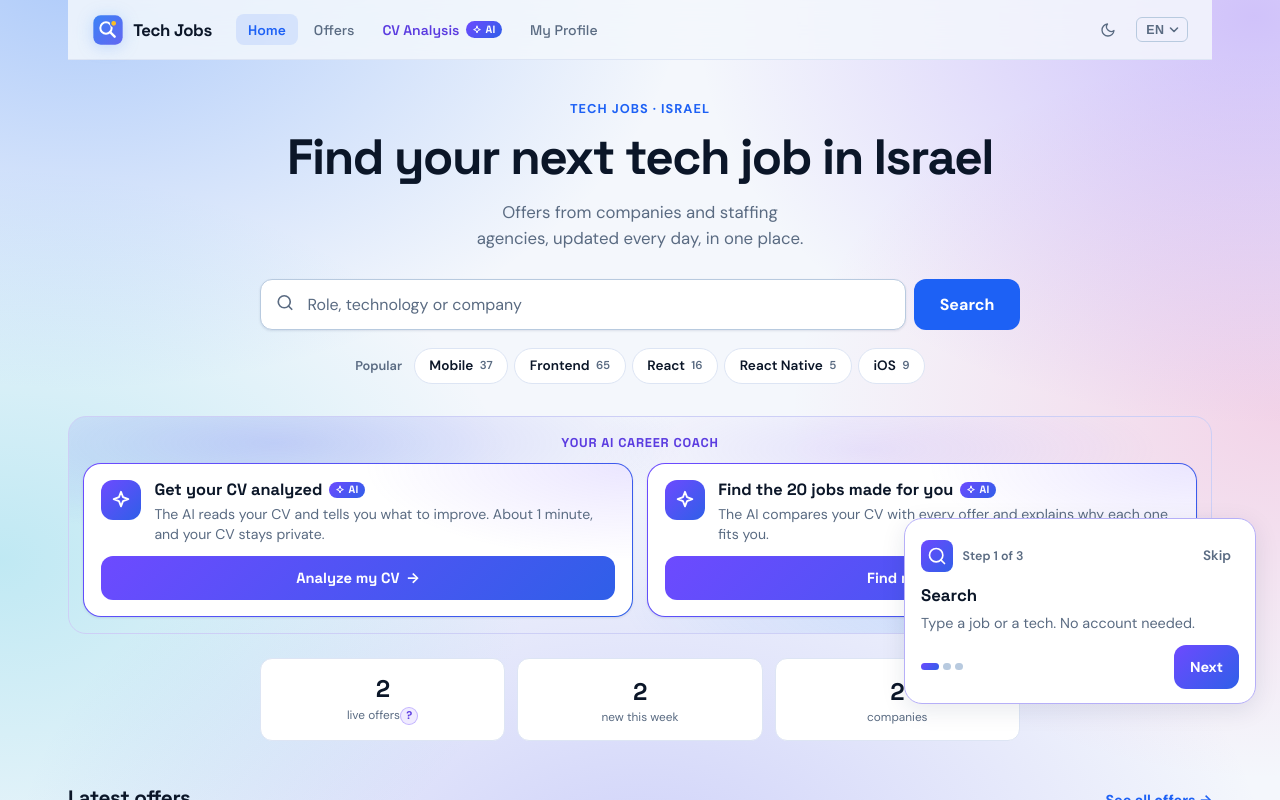
Test: Autocomplete on the home page (integration) › picking a role opens the offers filtered on it
Type "mob" into the dropdown named "Search offers" at (583, 305), box [260,279,906,330]
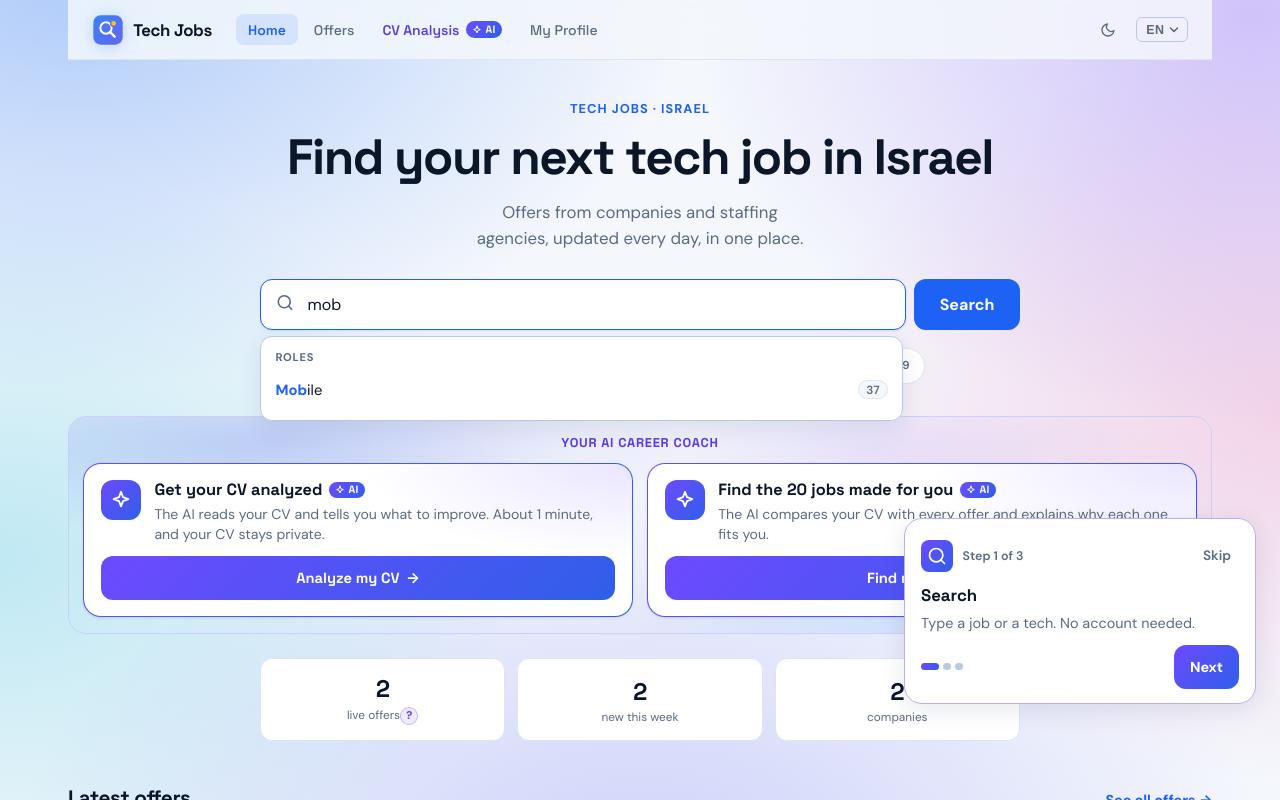
Click the option named "Mobile37" at (291, 390), box [275,380,888,400]
(page scrolled)
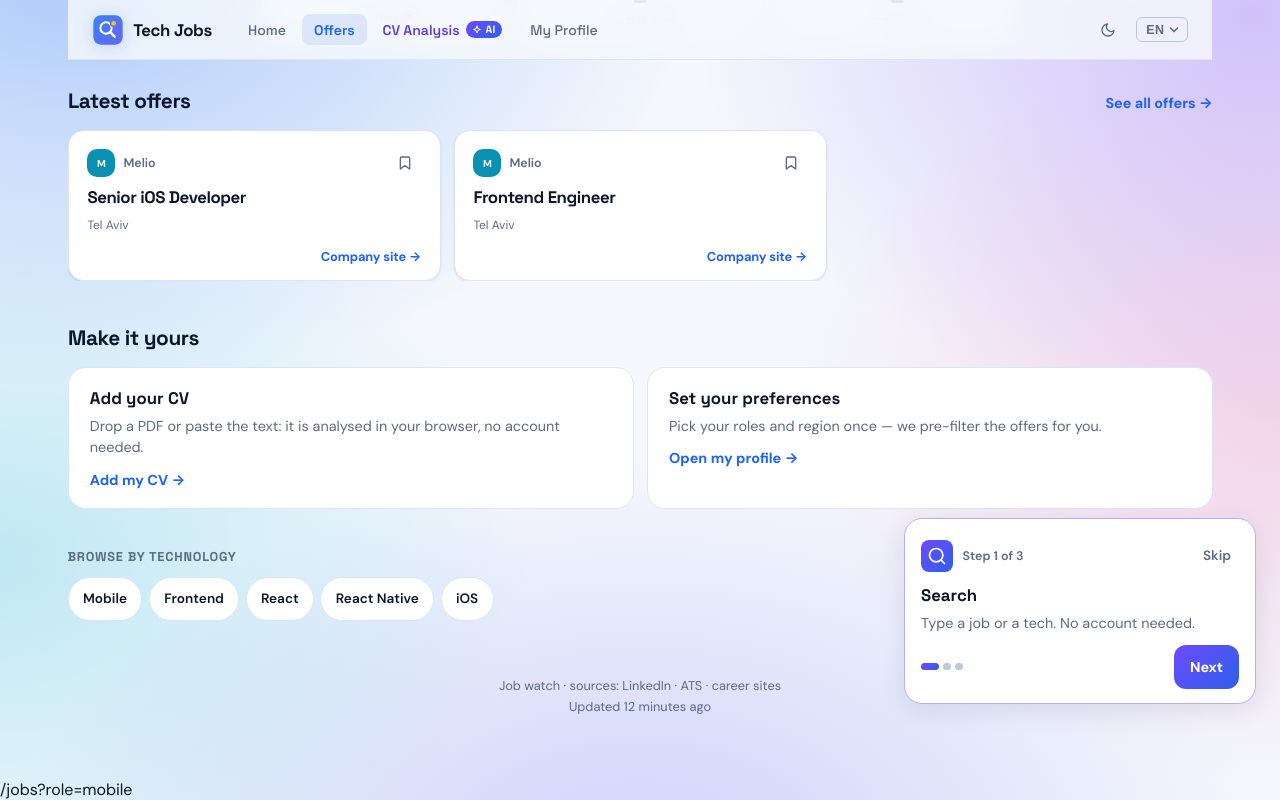
Check: the text with test id "location" reads "/jobs?role=mobile", box [0,779,132,799]
